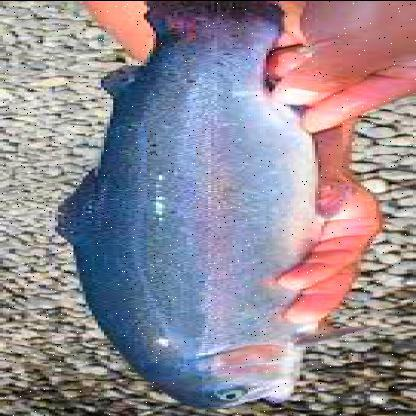fish: (44, 1, 346, 407)
